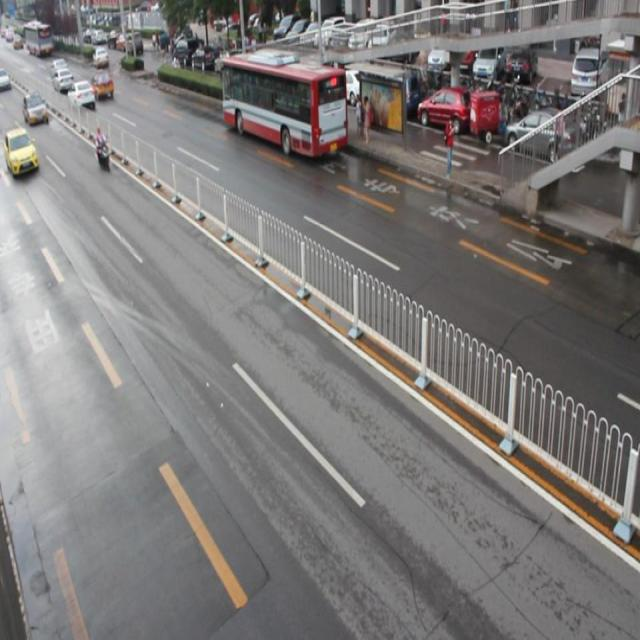van: (222, 52, 345, 160)
